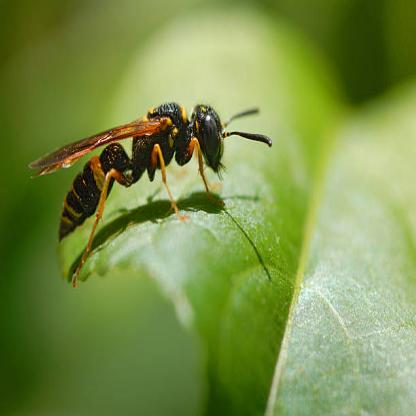sawfly: (25, 94, 279, 298)
